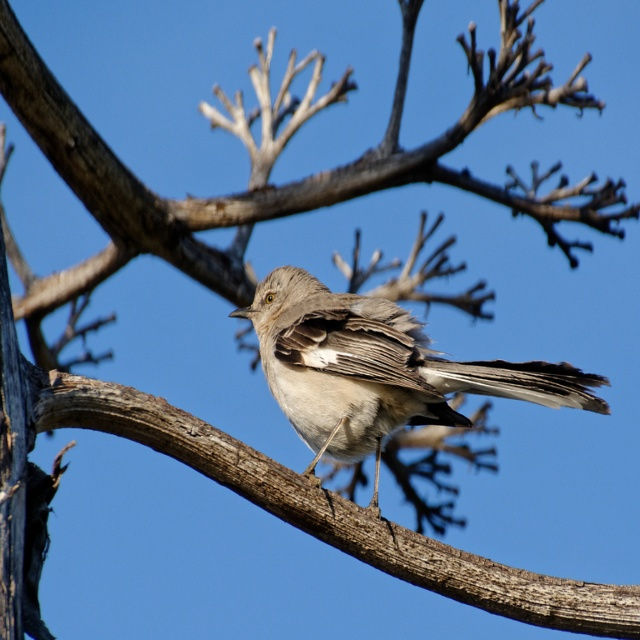Sparrow: (229, 266, 609, 516)
